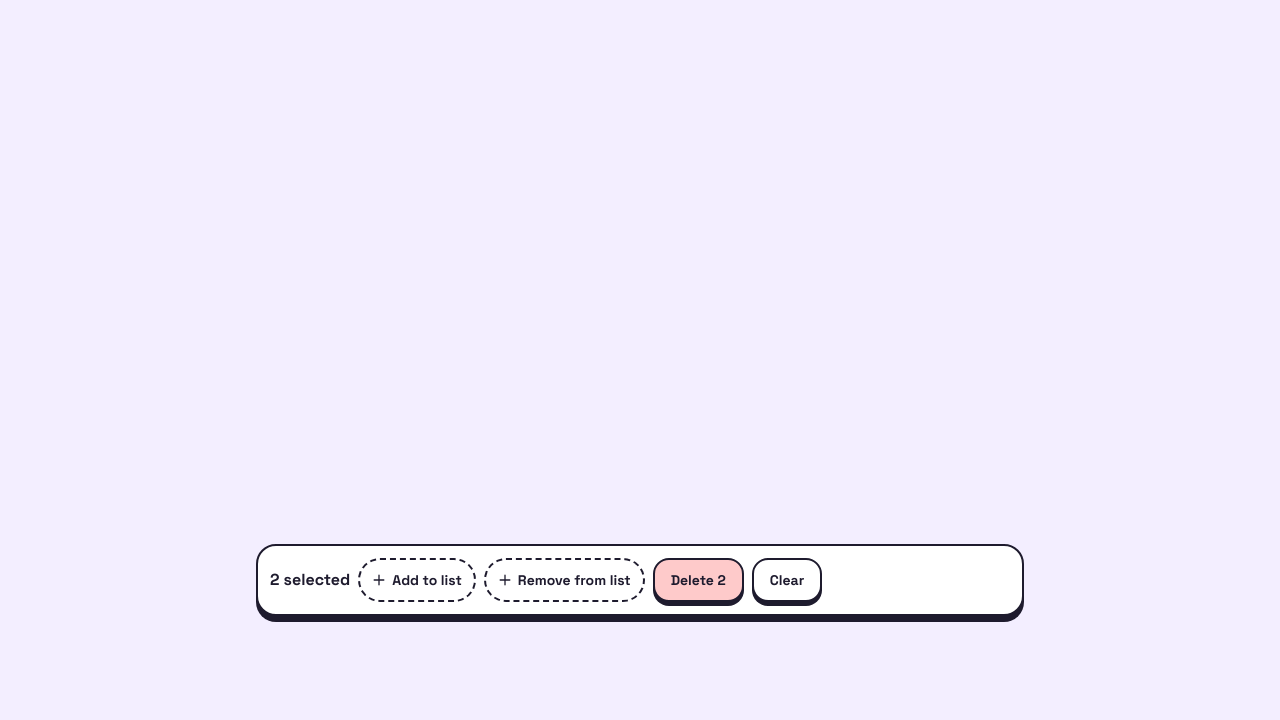
Scenario: SelectionBar › adds the selection to a list and clears it
Expected: the text "2 selected" is shown, [270,568,350,592]
Click the button "Add to list" at (417, 580), box [358,558,476,602]
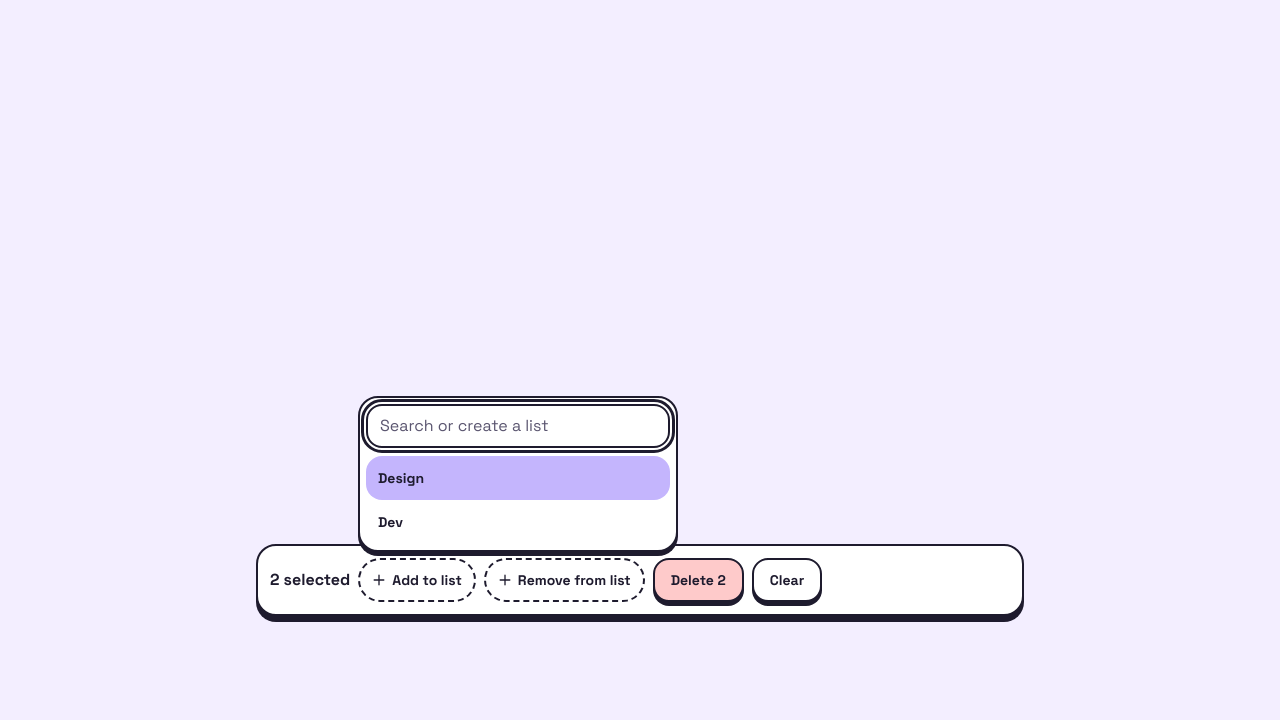
Click the option "Design" at (401, 478), box [366,456,670,500]
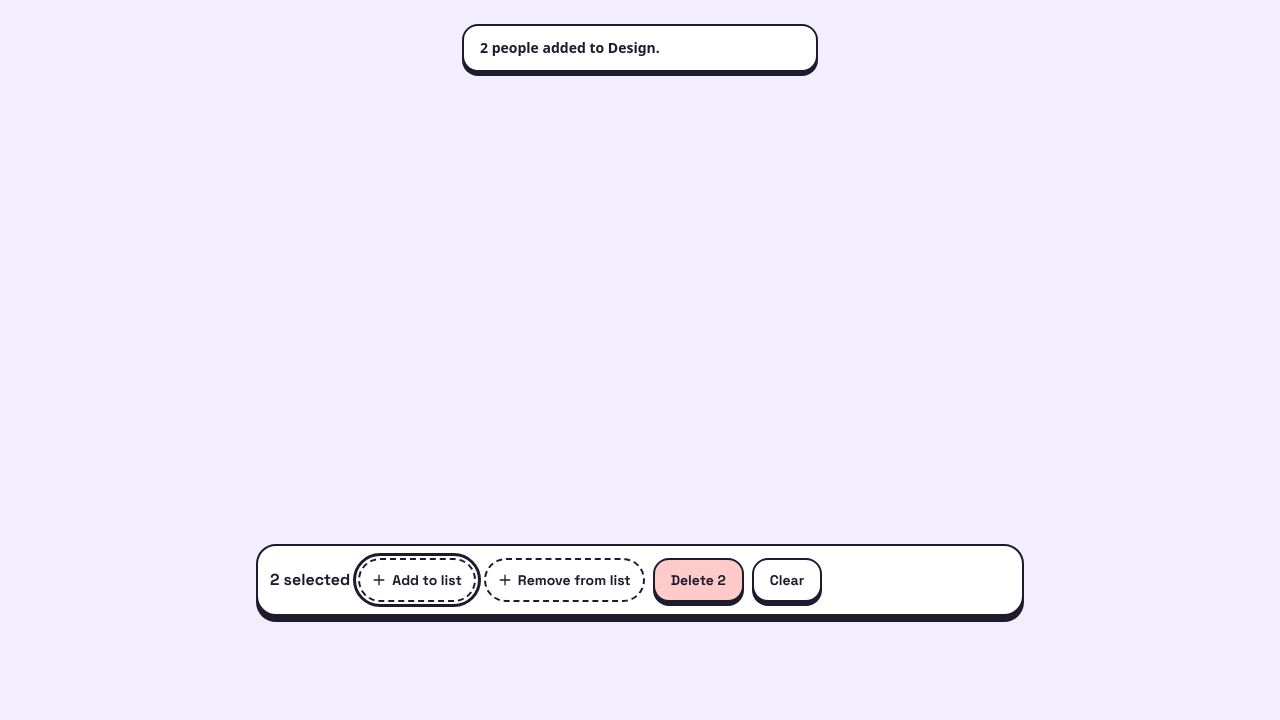
Expected: the text "2 people added to Design." is shown, [480,38,660,58]
